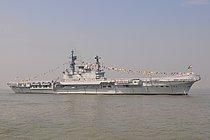MIL_Ship: (8, 49, 200, 95)
